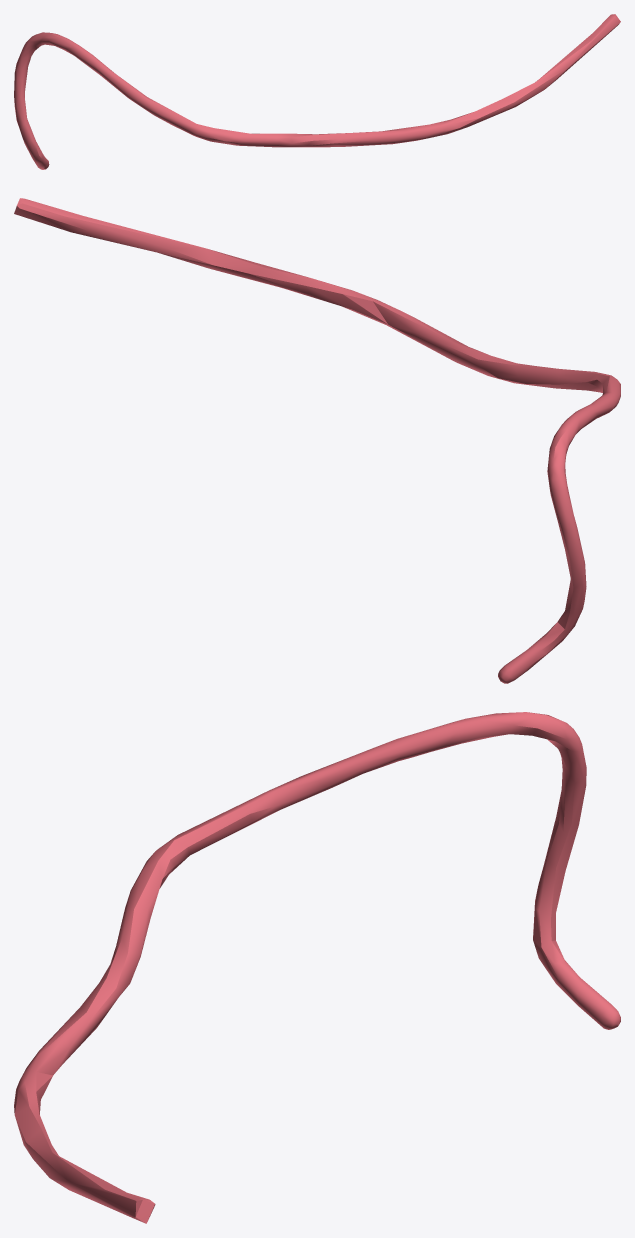
Rendered from fma15397_fj3597.glb.
3 renders of one model, top to bottom at view 1: azimuth 30°, elevation 25°; view 2: azimuth 150°, elevation 25°; view 3: azimuth 270°, elevation 25°, orthographic. The views are drawn at different scales.
Visible parts, largest first — view 1: FMA15397_FJ3597; view 2: FMA15397_FJ3597; view 3: FMA15397_FJ3597.
Part boxes in pixels (<box>): FMA15397_FJ3597: <box>14,14,620,169</box>; FMA15397_FJ3597: <box>14,198,620,683</box>; FMA15397_FJ3597: <box>14,712,620,1223</box>.
Bounding box in the file's own units: 0.0778 × 0.0234 × 0.0424.
